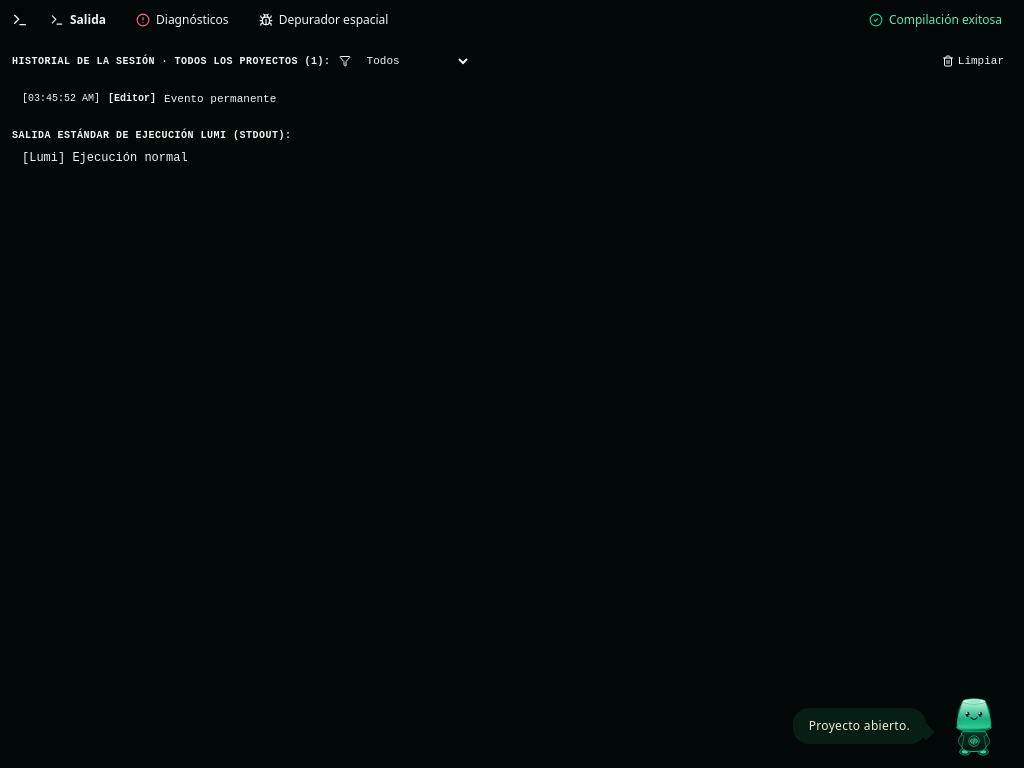
it: ConsolePanel & OutputLogView Integration › debe alternar entre pestañas conservando la funcionalidad de salida intacta
The image size is (1024, 768).
Expected: the element with test id "output-log-view" is shown, [12, 52, 1012, 170]
Click the button "Diagnósticos".
click(182, 20)  # box [124, 6, 241, 34]
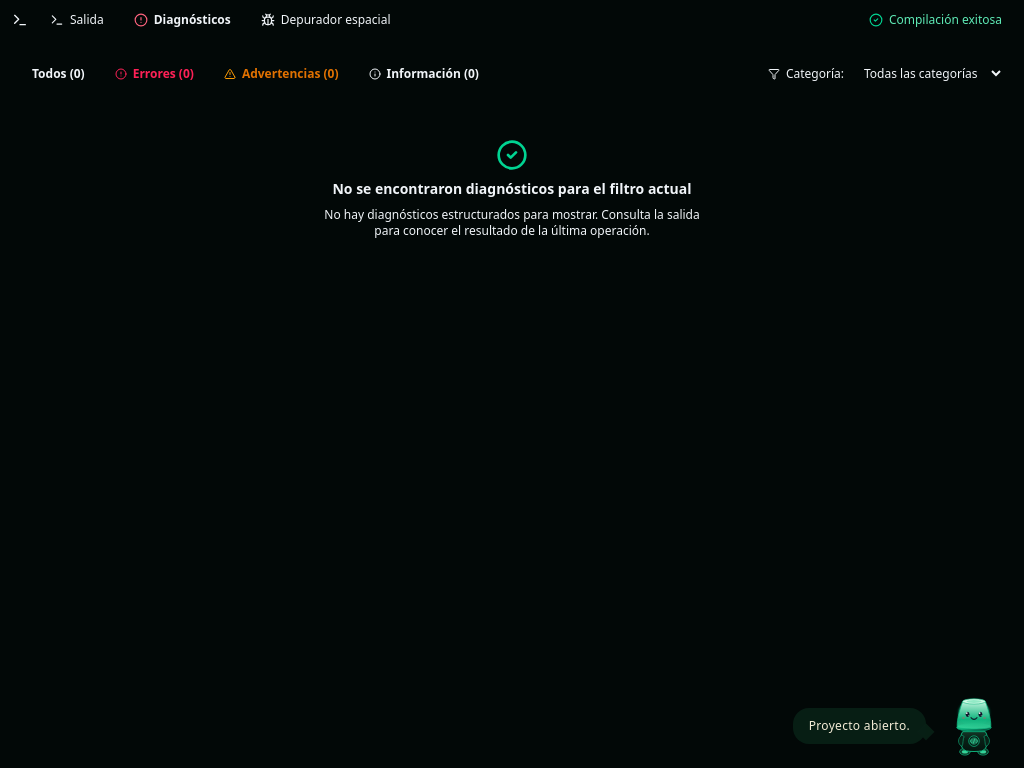
Expected: the element with test id "output-log-view" is gone
Click the button "Salida".
click(77, 20)  # box [38, 6, 116, 34]
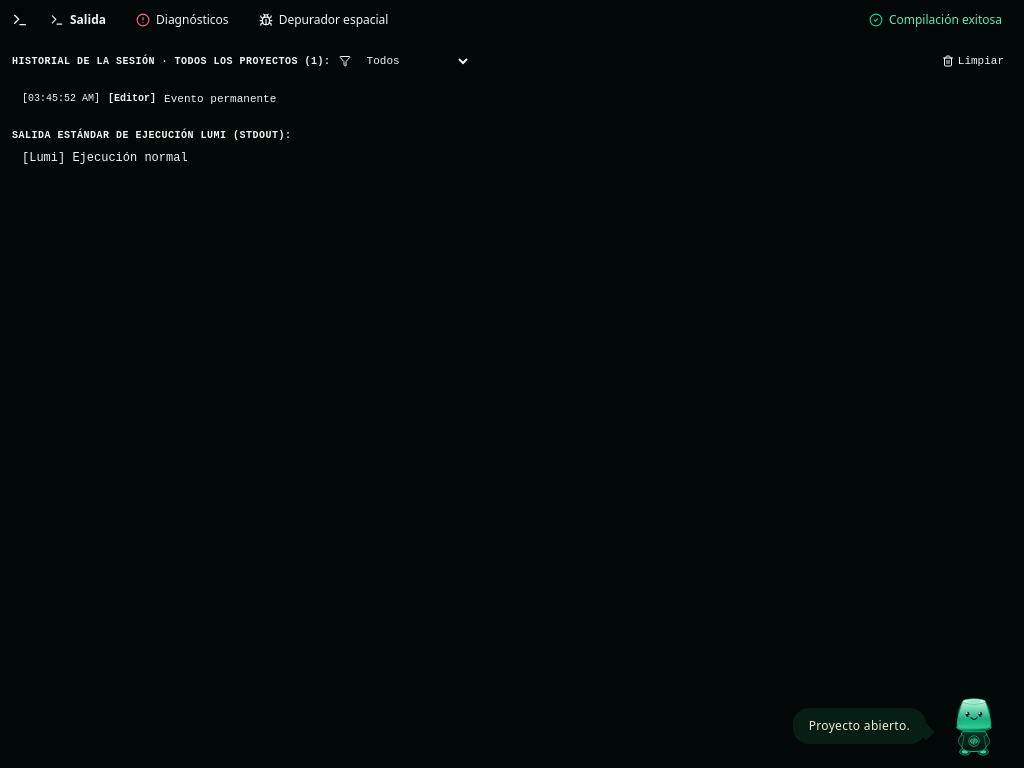
Expected: the element with test id "output-log-view" is shown, [12, 52, 1012, 170]
Expected: the text "Evento permanente" is shown, [164, 93, 276, 105]
